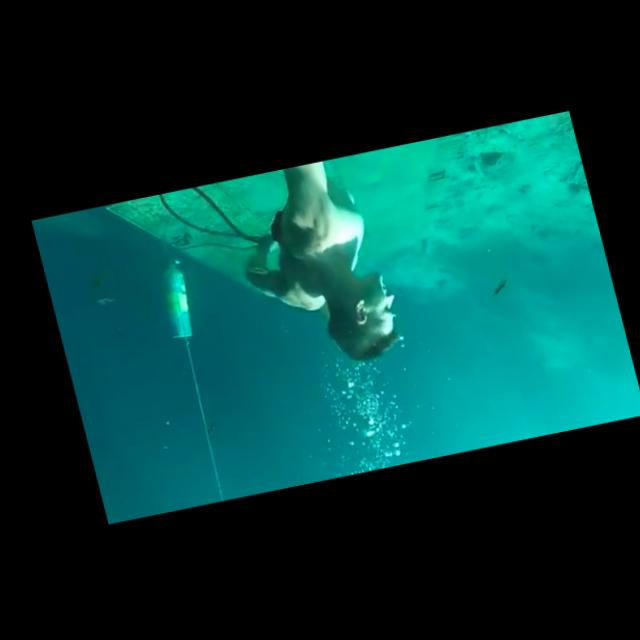human: (213, 153, 413, 385)
